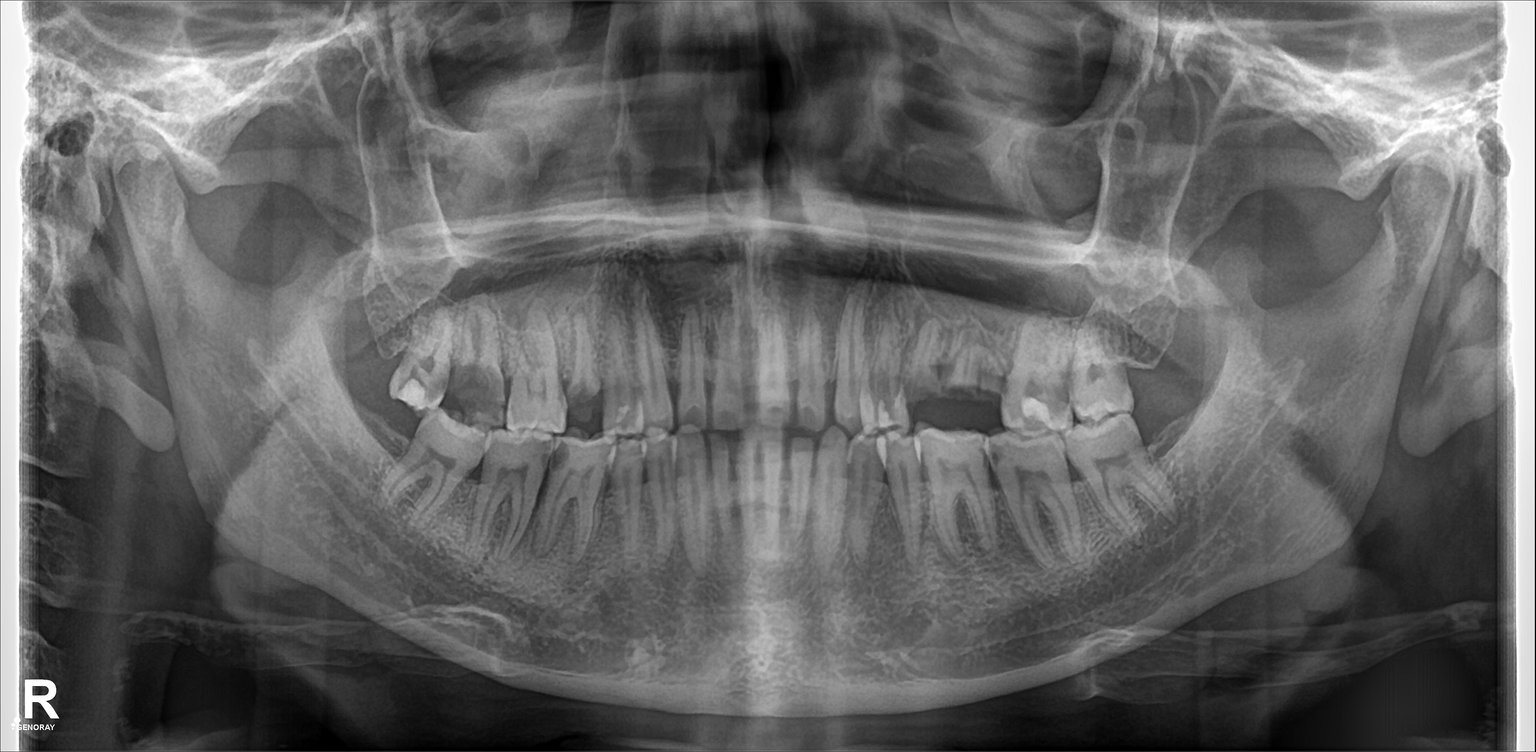Dental Caries: (562, 378, 608, 434), (443, 367, 489, 416), (544, 445, 568, 472)
Missing Tooth: (1123, 285, 1190, 377), (348, 393, 411, 480), (1132, 400, 1193, 474), (343, 292, 383, 377)
Retained Root: (909, 324, 956, 422), (961, 315, 998, 414)
